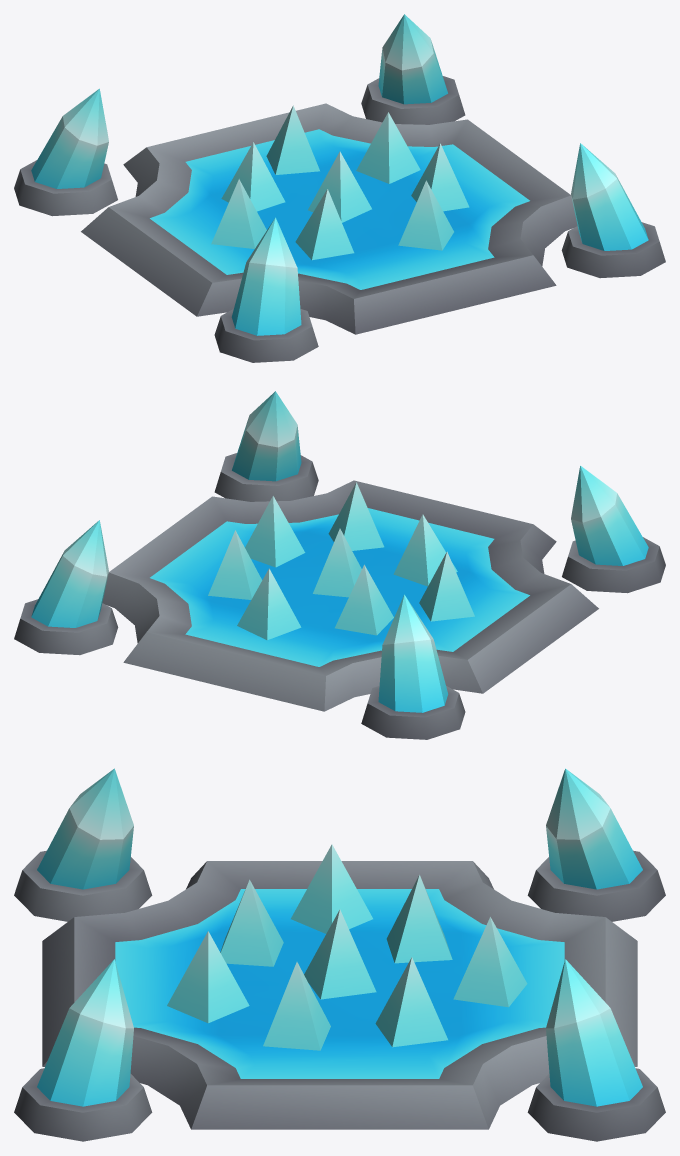
The model's file is SM_Tower_Ice.fbx.
The picture shows the model from 3 angles, top to bottom: view 1: azimuth 30°, elevation 25°; view 2: azimuth 150°, elevation 25°; view 3: azimuth 270°, elevation 25°; orthographic projection. The views are drawn at different scales.
Parts seen in each view (by area): view 1: Tower_Slow; view 2: Tower_Slow; view 3: Tower_Slow.
Part boxes in pixels (left/top/right/bottom): Tower_Slow: left=14, top=14, right=665, bottom=362; Tower_Slow: left=14, top=391, right=665, bottom=739; Tower_Slow: left=14, top=768, right=665, bottom=1141.
Size of the model in its own units: 197 by 47.37 by 197.
